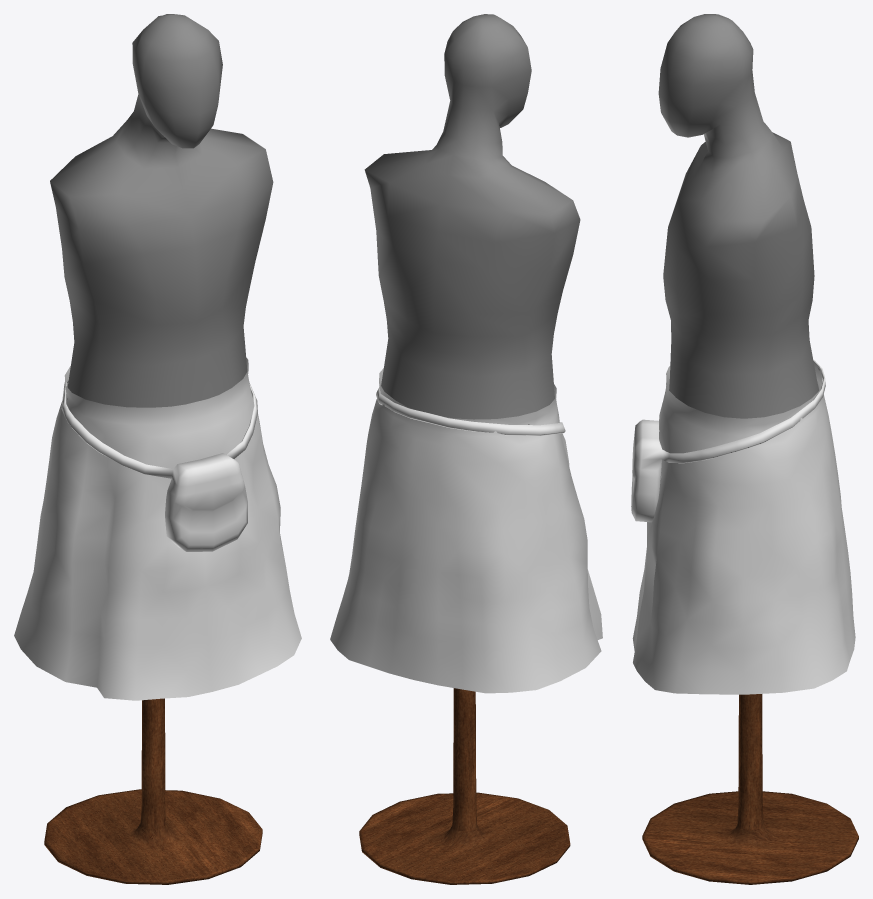
File: manekan test vewo.fbx
3 renders of one model, left to right at view 1: azimuth 30°, elevation 25°; view 2: azimuth 150°, elevation 25°; view 3: azimuth 270°, elevation 25°, orthographic. The views are drawn at different scales.
Visible parts, largest first — view 1: male LOW, skirt, bage; view 2: male LOW, skirt, bage; view 3: male LOW, skirt, bage.
Boxes of the visible parts, box(x1,y1,x2,y2) form: male LOW: box(44, 14, 273, 884); skirt: box(14, 358, 301, 700); bage: box(61, 378, 257, 551); male LOW: box(359, 14, 580, 884); skirt: box(330, 368, 602, 693); bage: box(376, 386, 565, 435); male LOW: box(642, 14, 858, 884); skirt: box(632, 361, 855, 694); bage: box(631, 360, 825, 522).
Bounding box in the file's own units: 0.4212 × 1.4 × 0.3504.
